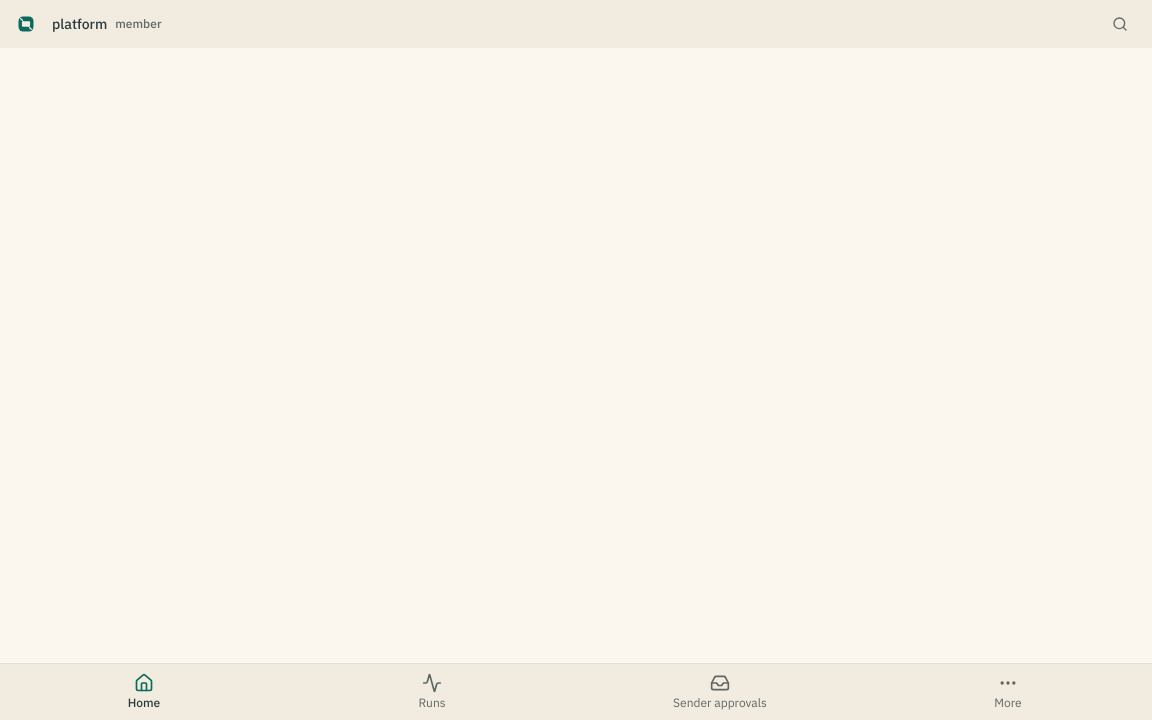
it: the navigation on a phone › opens every screen and the account from More
Click the button "More". click: (1008, 692)
box: [864,664,1151,719]
(page scrolled)
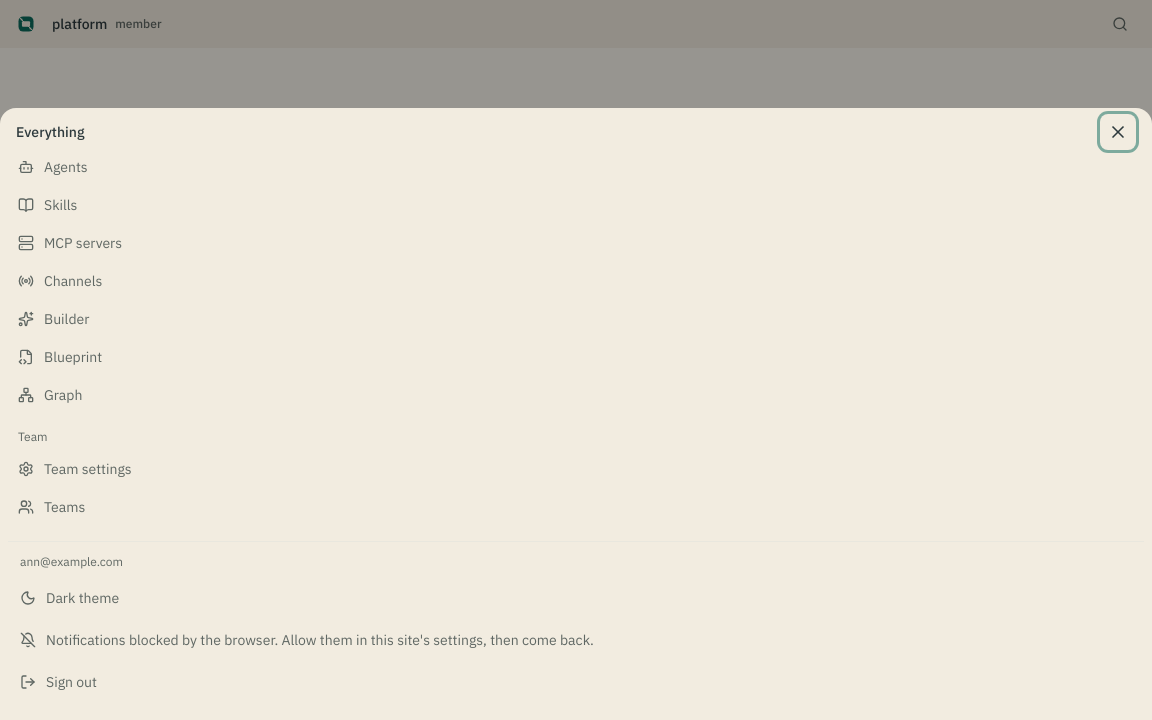
Expected: the link "Agents" is shown, [18,158,88,176]
Expected: the button "Sign out" is shown, [10,660,1142,704]
